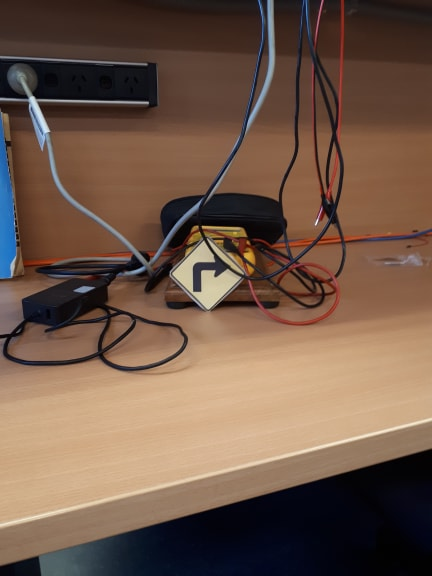right: (169, 239, 249, 317), (195, 233, 247, 294), (207, 251, 240, 287)
